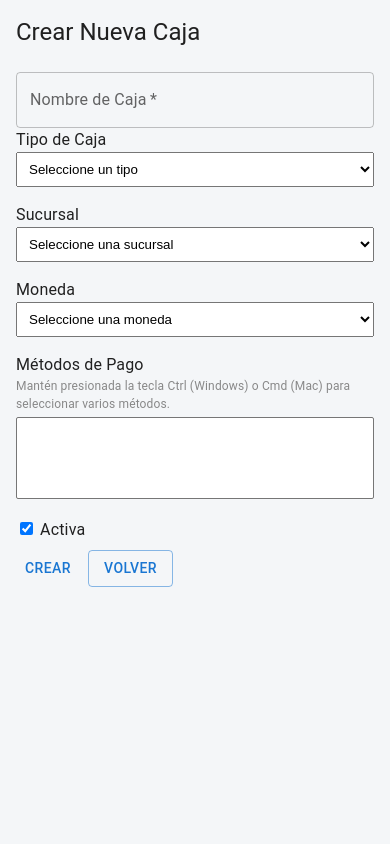
Test: CajaCreatePage › muestra el error cuando el backend rechaza la creación
Step 1. Type "Caja Principal" into the field labelled "Nombre de Caja *" → (195, 100), box left=16, top=72, right=374, bottom=128
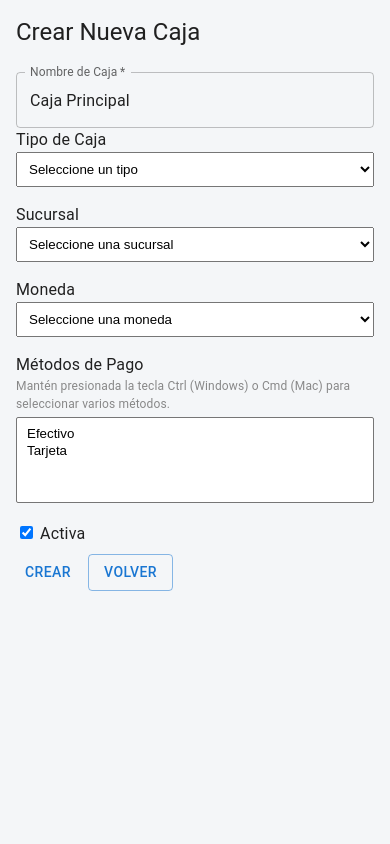
Expected: the option "efectivo" is shown, left=25, top=426, right=365, bottom=443
Step 2. Select "Registradora" in the 1st dropdown → (195, 170), box left=16, top=152, right=374, bottom=187
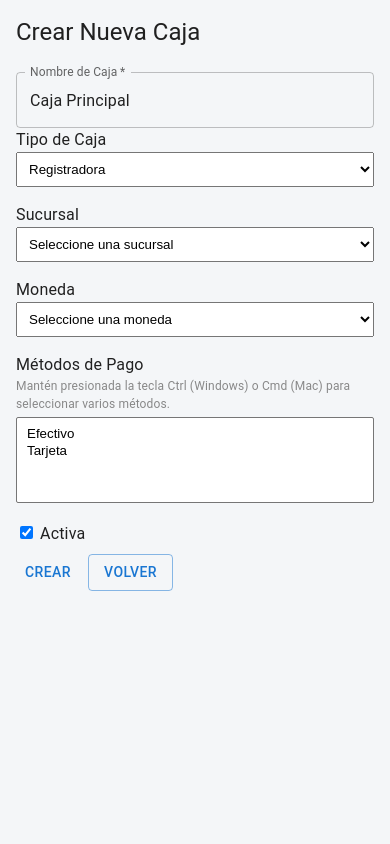
Step 3. Select "Sucursal Centro" in the 2nd dropdown → (195, 244), box left=16, top=227, right=374, bottom=262
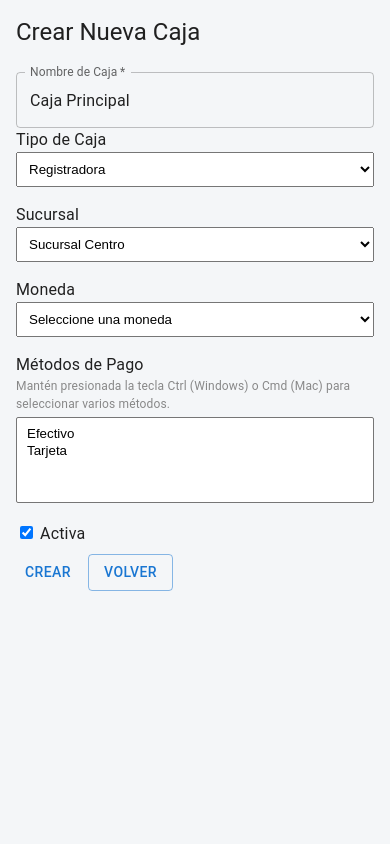
Step 4. Select "VES - Bolívar" in the 3rd dropdown → (195, 320), box left=16, top=302, right=374, bottom=337
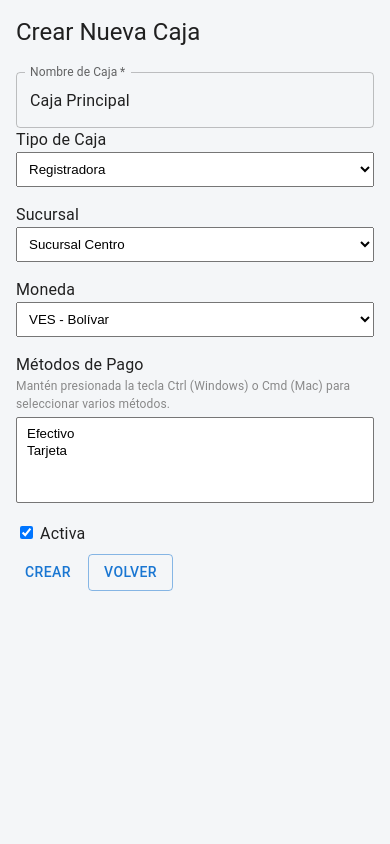
Step 5. Select "mp-1, mp-2" in the 4th dropdown → (195, 460), box left=16, top=417, right=374, bottom=503
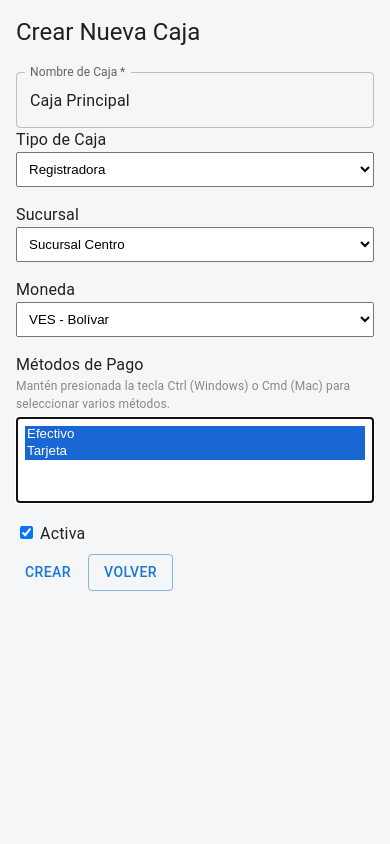
Step 6. Click the button "Crear" → (48, 572), box left=16, top=554, right=80, bottom=590
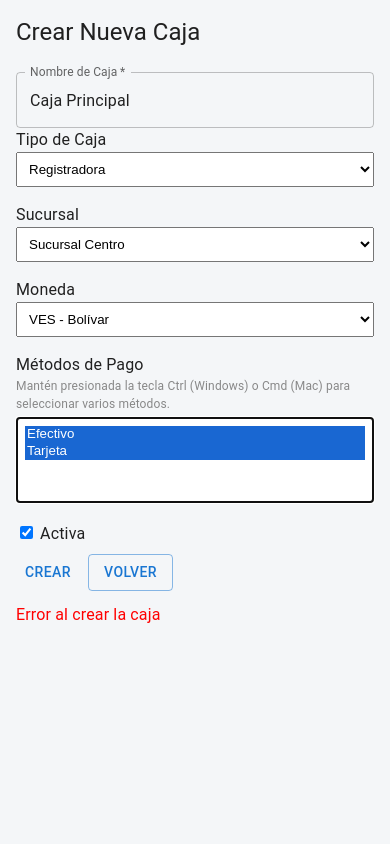
Expected: the text "Error al crear la caja" is shown, left=16, top=604, right=161, bottom=624
